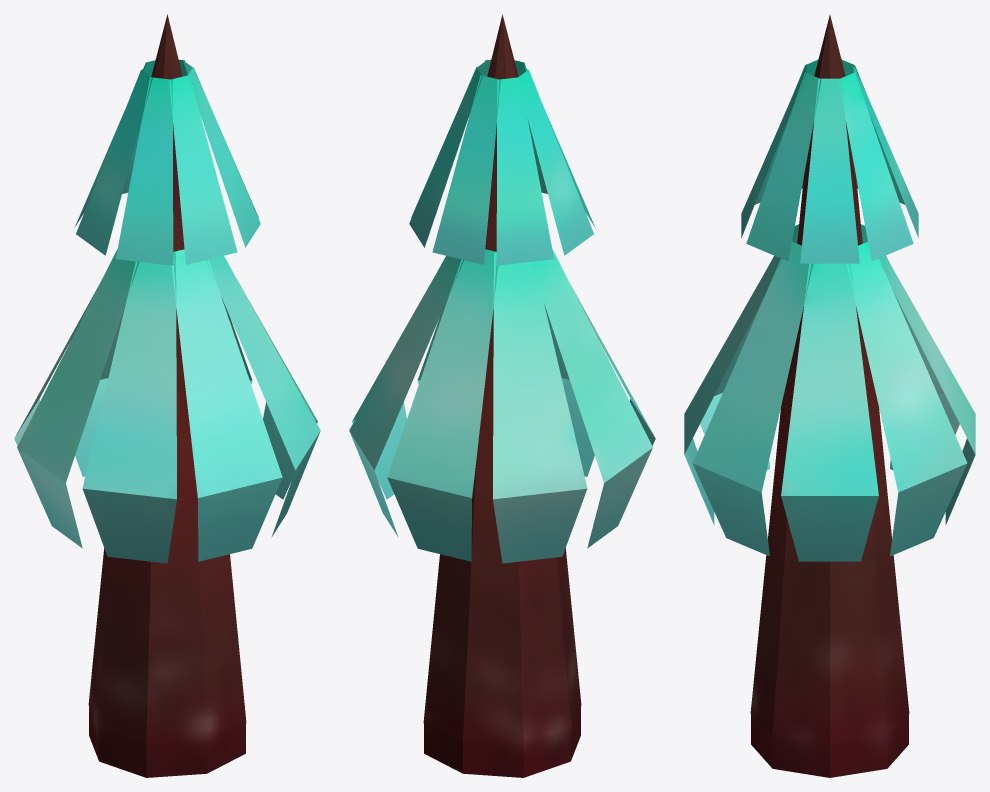
The model's file is mgcrs_C-Tree.fbx.
3 views of the same model, side by side, from view 1: azimuth 30°, elevation 25°; view 2: azimuth 150°, elevation 25°; view 3: azimuth 270°, elevation 25° (orthographic).
Visible parts, largest first — view 1: C-Tree_LOD0; view 2: C-Tree_LOD0; view 3: C-Tree_LOD0.
Boxes of the visible parts, x1,y1,x2,y2 form: C-Tree_LOD0: [14, 14, 320, 777]; C-Tree_LOD0: [349, 14, 655, 777]; C-Tree_LOD0: [684, 15, 975, 777].
Size of what is drawn, in the model's own units: 11.27 by 31.46 by 11.27.
Materials: 1 (1 with a texture image).
